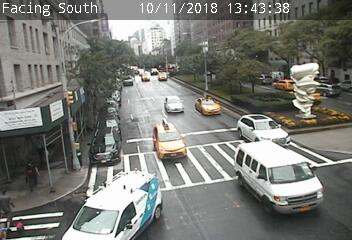car: (62, 171, 163, 240), (235, 141, 326, 215), (237, 114, 291, 150), (153, 123, 187, 162), (90, 127, 121, 165), (194, 97, 220, 115), (288, 89, 320, 103), (311, 82, 340, 97), (164, 96, 184, 114), (273, 79, 297, 91), (251, 74, 272, 85)
